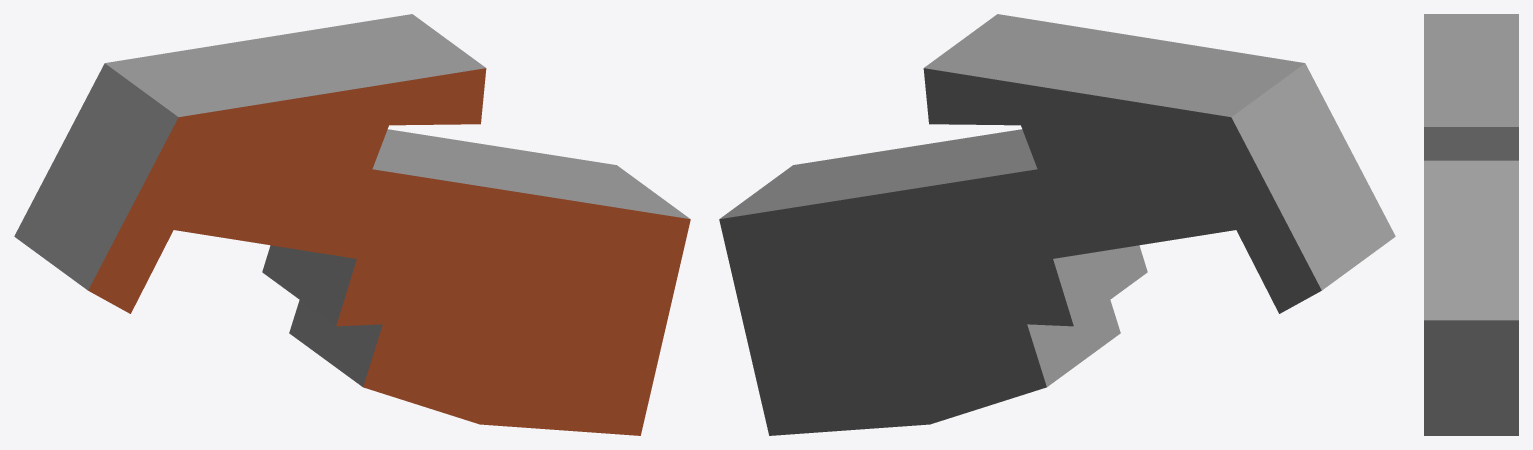
Rendered from construction_6067_assumed_A_Casa_h6m.obj.
3 views of the same model, side by side, from view 1: azimuth 30°, elevation 25°; view 2: azimuth 150°, elevation 25°; view 3: azimuth 270°, elevation 25° (orthographic). The views are drawn at different scales.
Parts seen in each view (by area): view 1: construction_6067_assumed_A_Casa; view 2: construction_6067_assumed_A_Casa; view 3: construction_6067_assumed_A_Casa.
Part boxes in pixels (left/top/right/bottom): construction_6067_assumed_A_Casa: left=14, top=14, right=690, bottom=435; construction_6067_assumed_A_Casa: left=719, top=14, right=1395, bottom=435; construction_6067_assumed_A_Casa: left=1424, top=14, right=1518, bottom=435.
Size of the model in its own units: 28.24 by 19.32 by 6.
